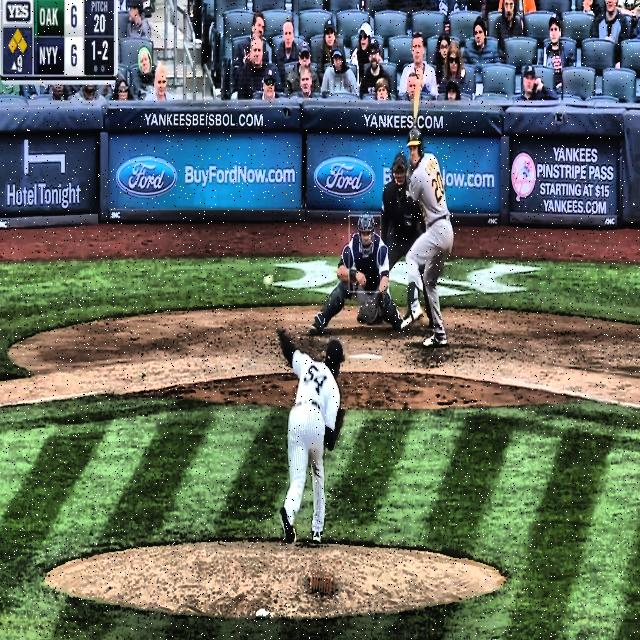baseball: (263, 273, 273, 288)
